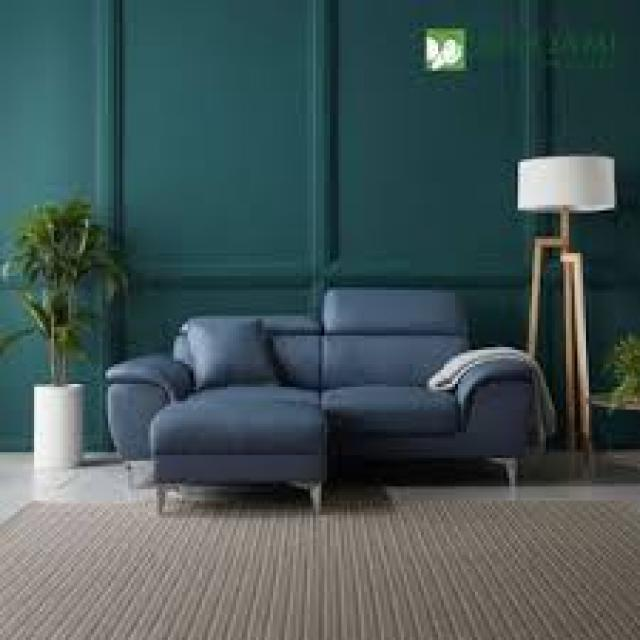Sofa: (86, 269, 572, 542)
